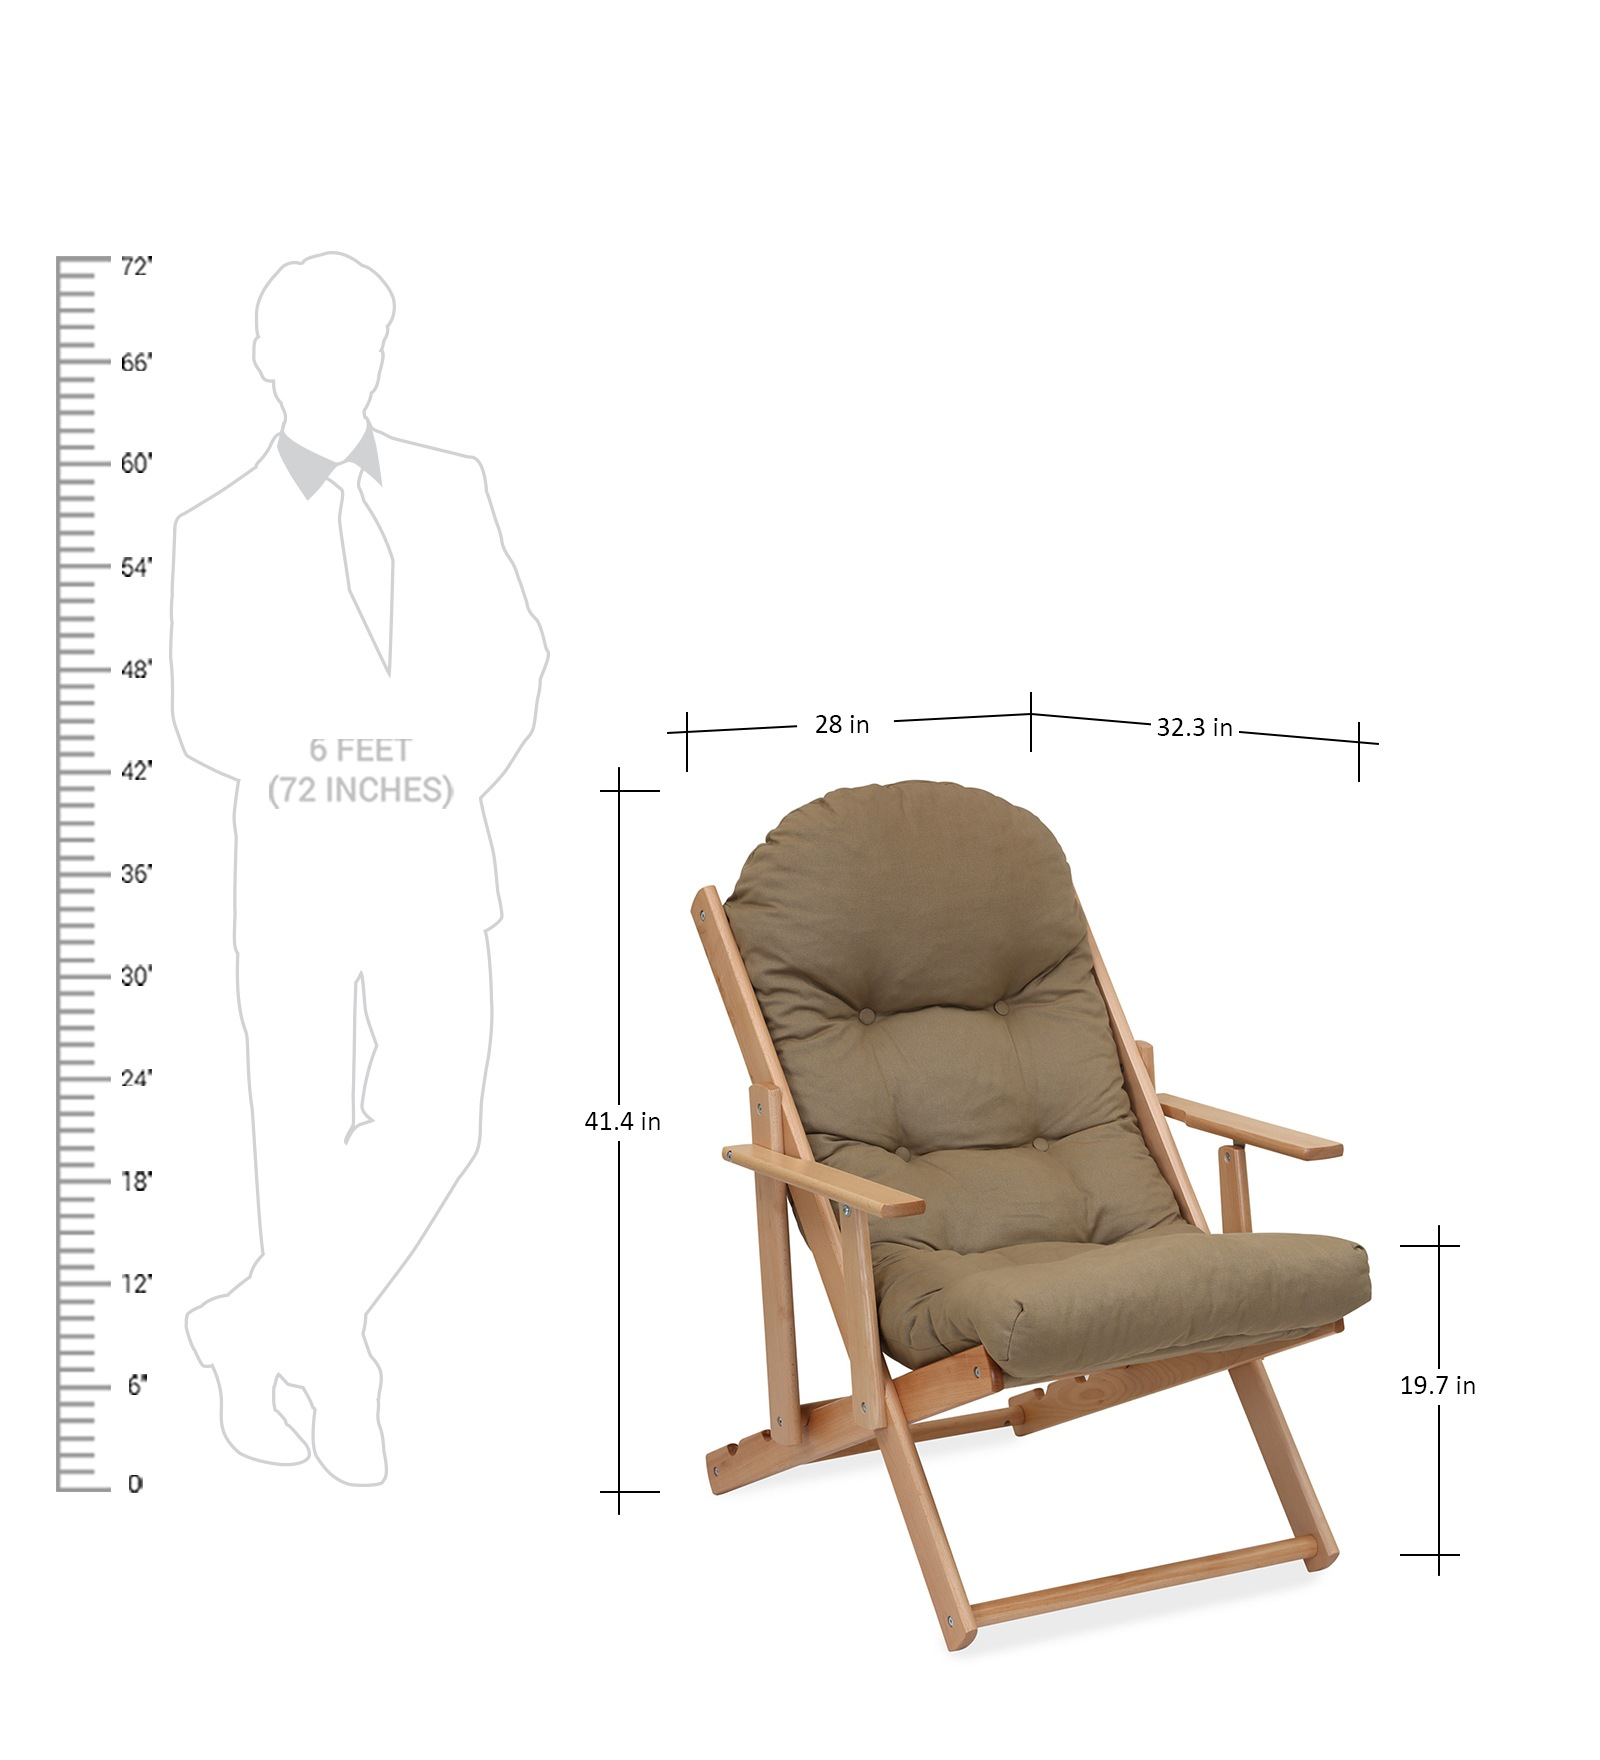Mazda Leisure Folding Chair in Light Brown Colour by @ Home: (688, 776, 1378, 1630)
